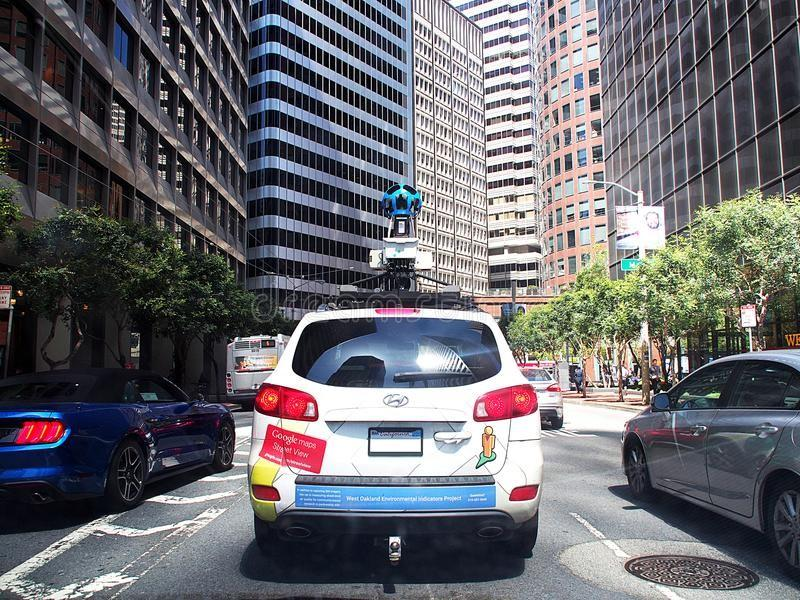LightVehicle: (247, 304, 549, 563), (617, 347, 800, 582), (1, 368, 242, 530)
